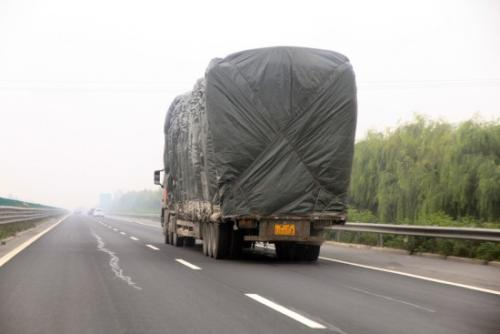chaozhai: (147, 38, 359, 270)
